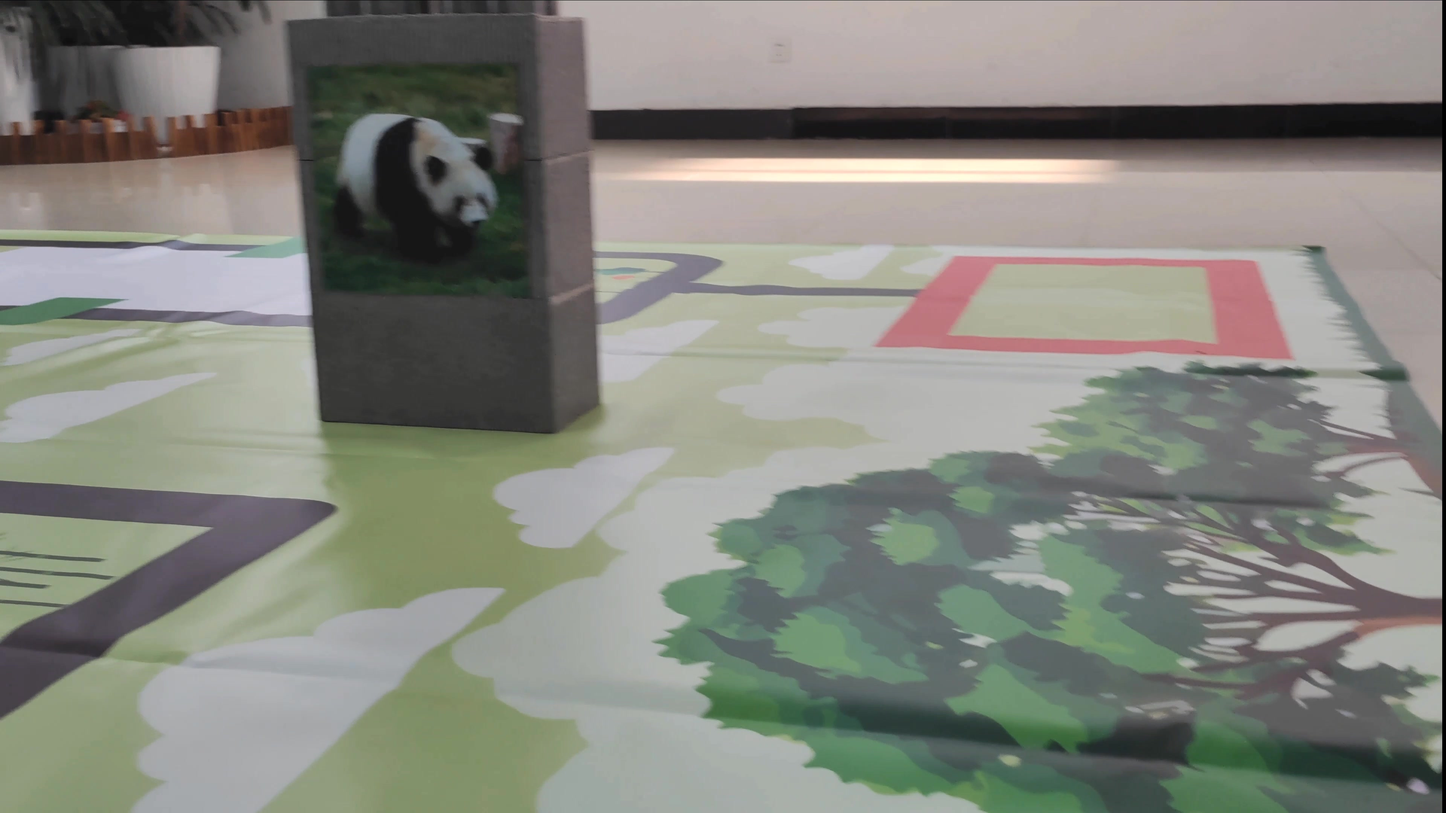panda: (325, 96, 514, 266)
